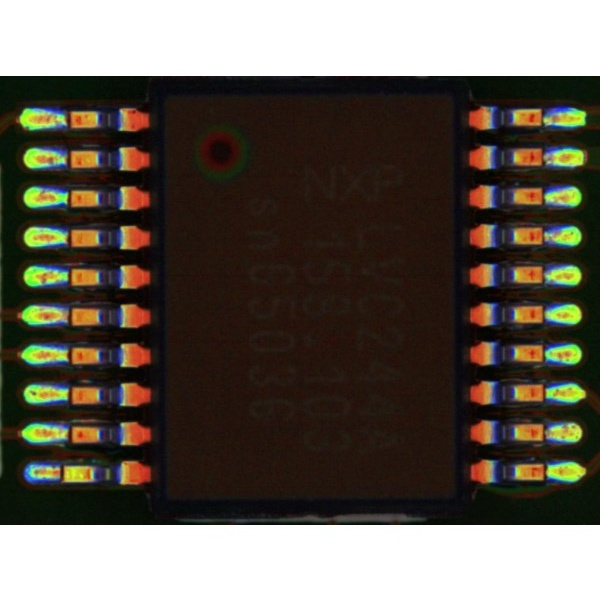Bad_podu: (49, 468, 75, 477)
